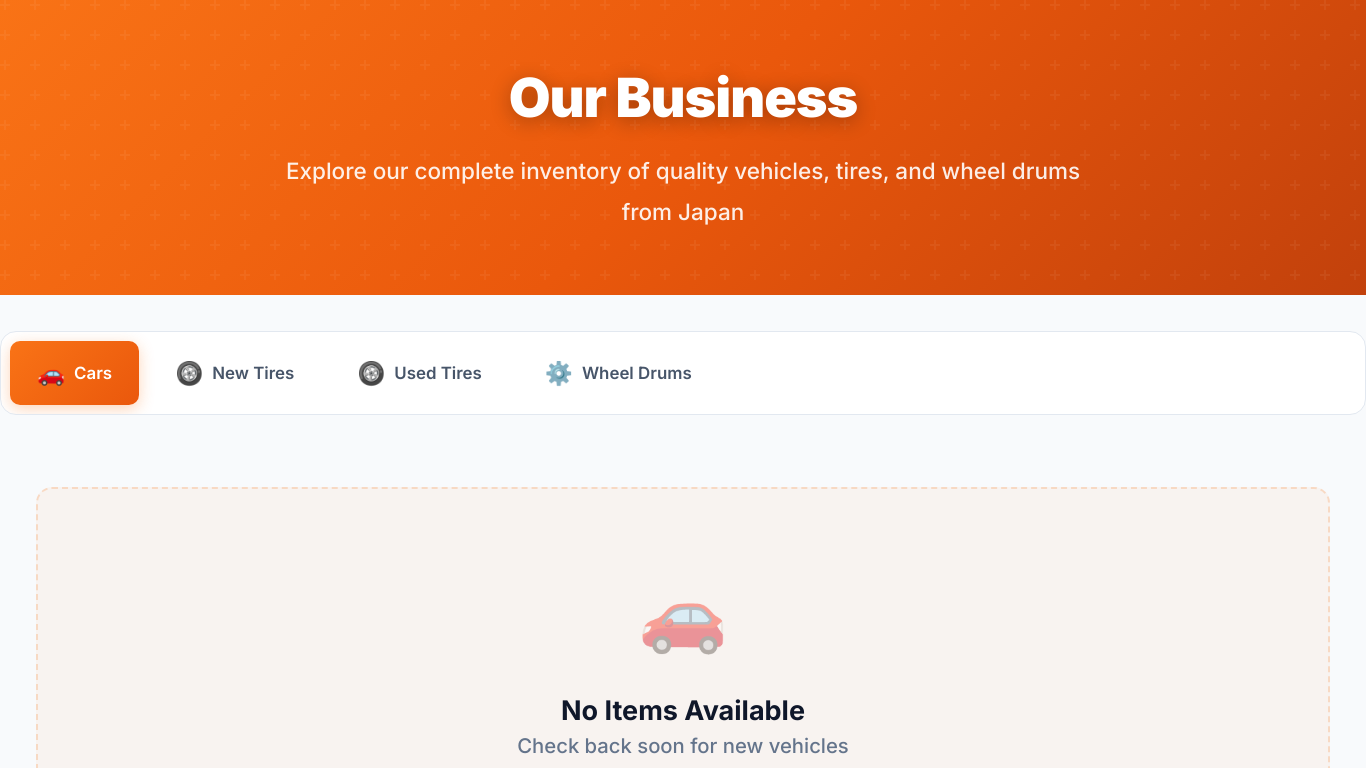
Scenario: Business › empty states › should show empty state for used tires when no used tires available
Click the button "🛞 Used Tires" at (420, 373), box [330, 341, 509, 405]
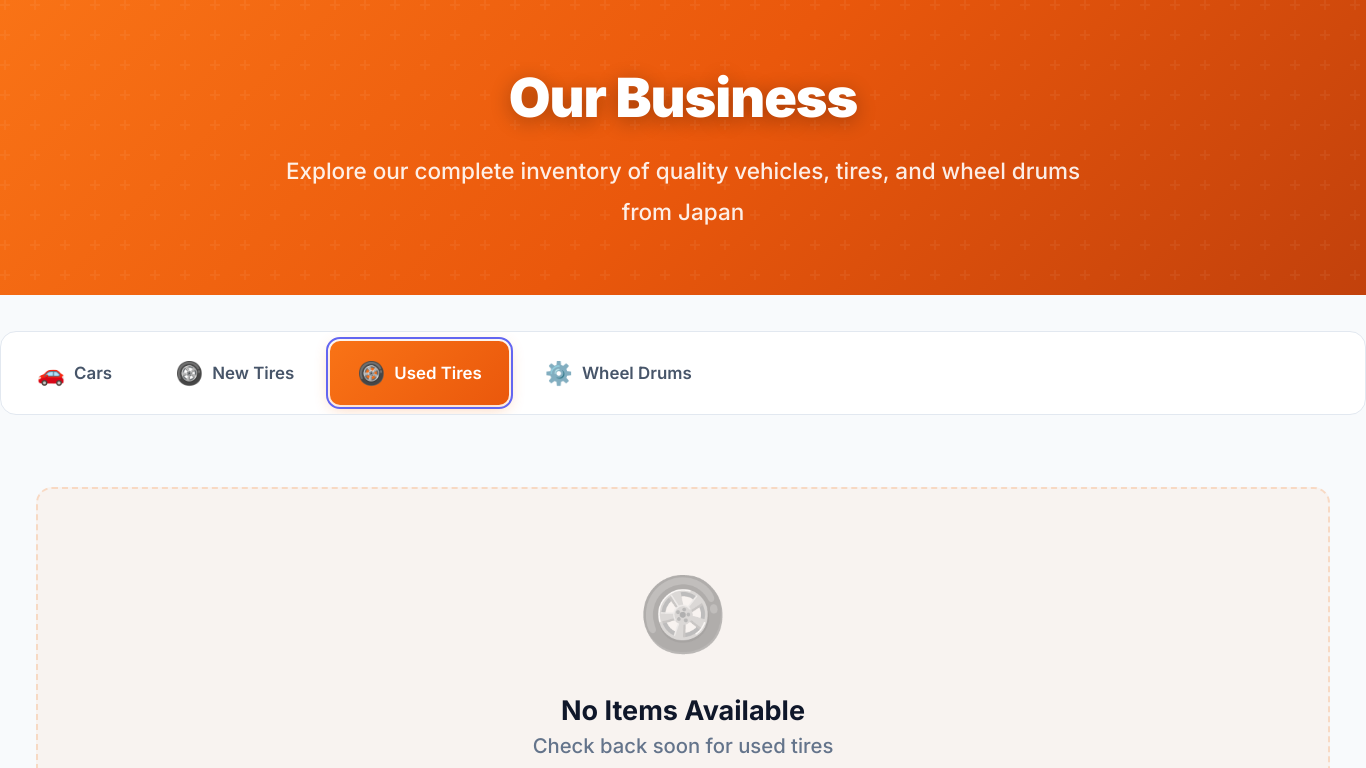
Expected: the heading "No Items Available" is shown, [561, 693, 805, 728]
Expected: the text "Check back soon for used tires" is shown, [533, 728, 833, 764]
